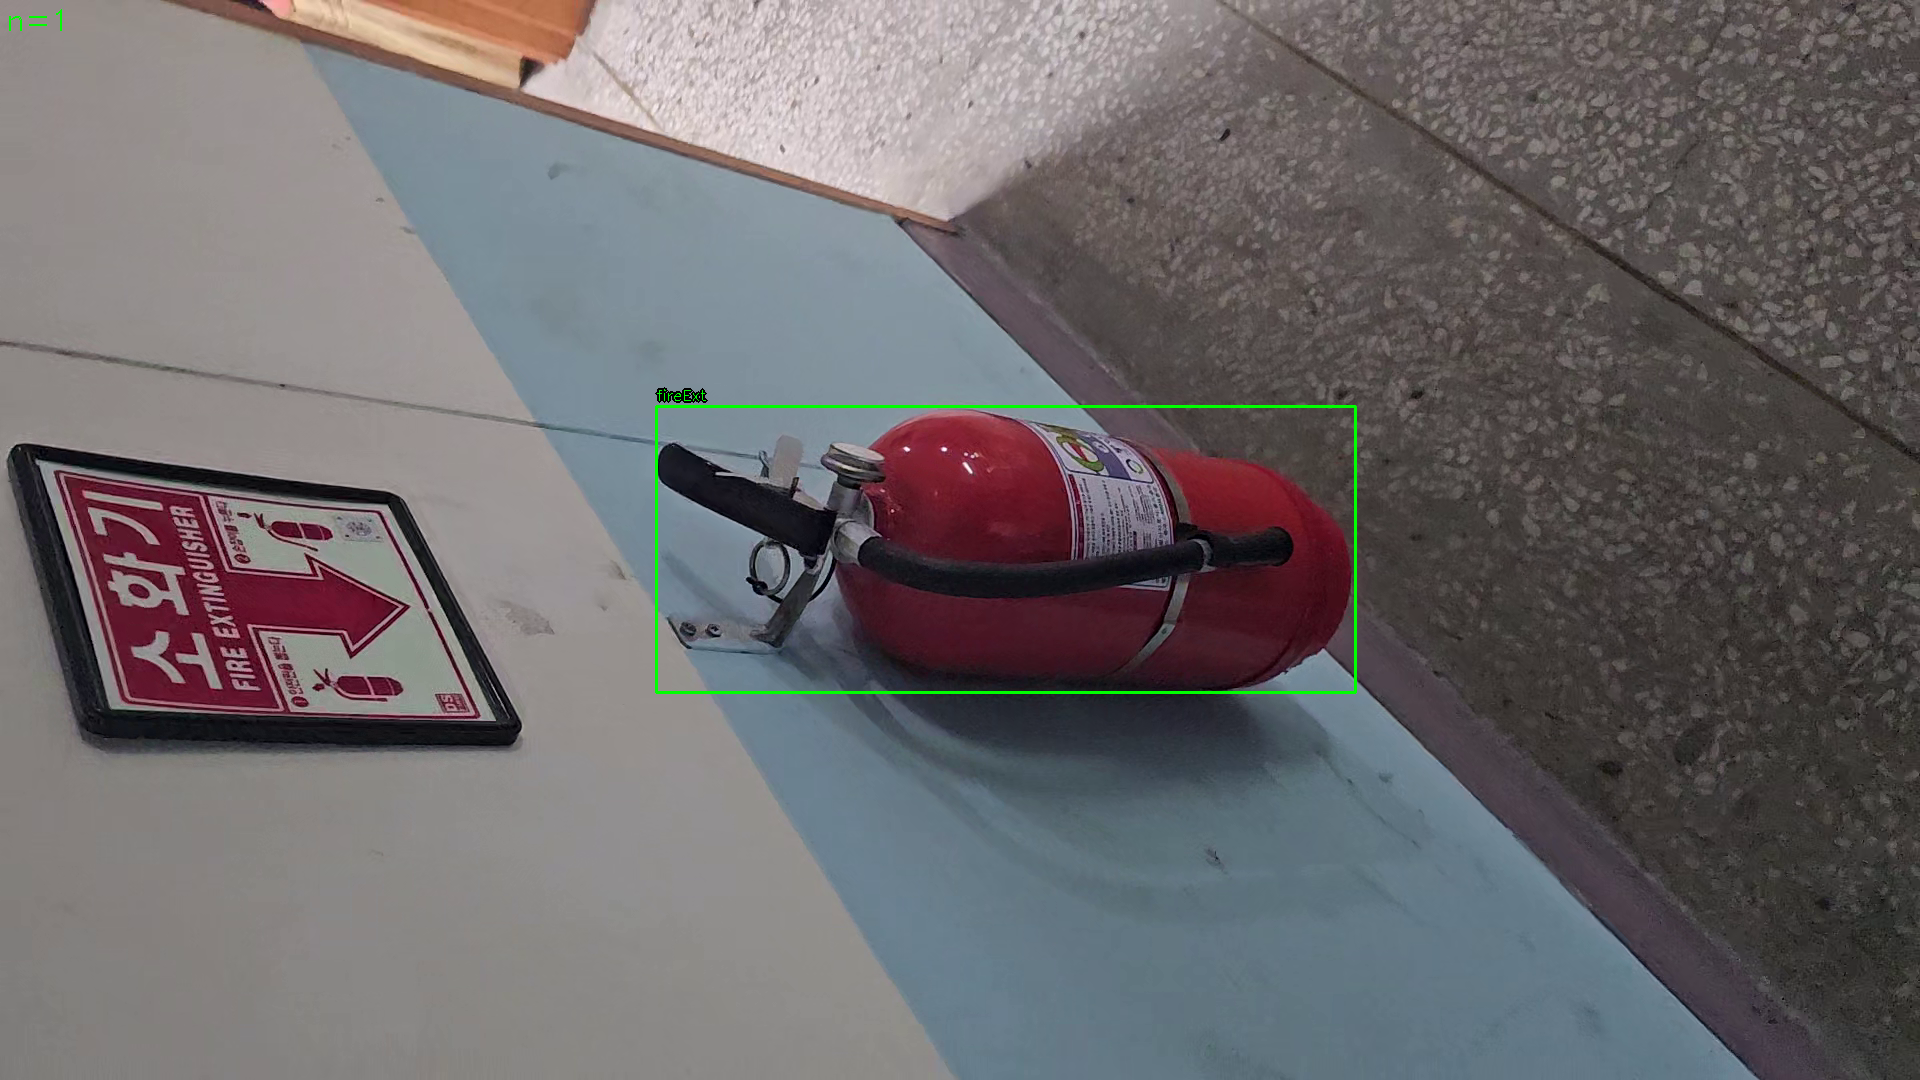lane: (655, 406, 1356, 694)
